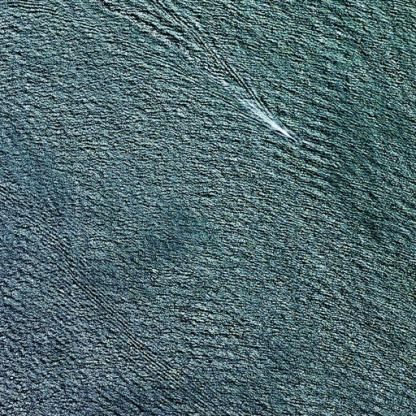ship: (274, 122, 304, 148)
